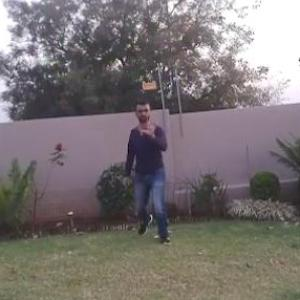follow_hand: (140, 112, 160, 142)
